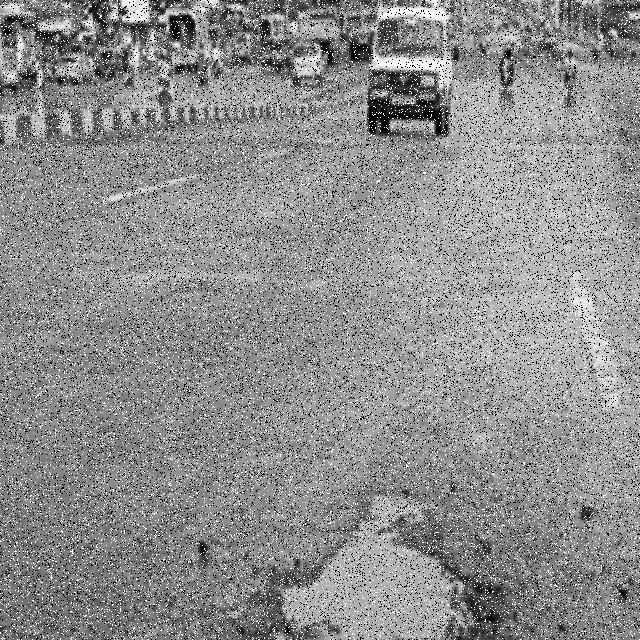pothole: (283, 537, 448, 640)
